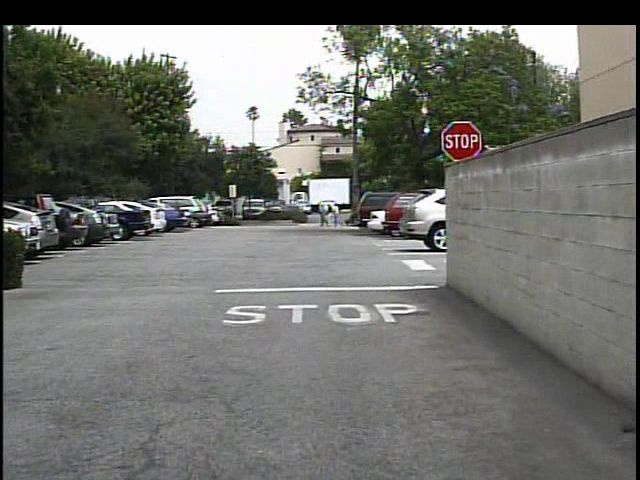person: (313, 203, 328, 230), (327, 203, 342, 230)
